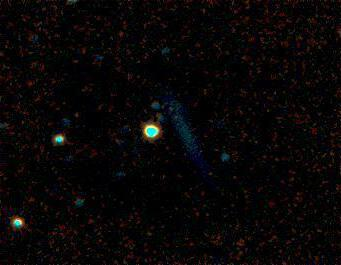star: (65, 98, 95, 128)
